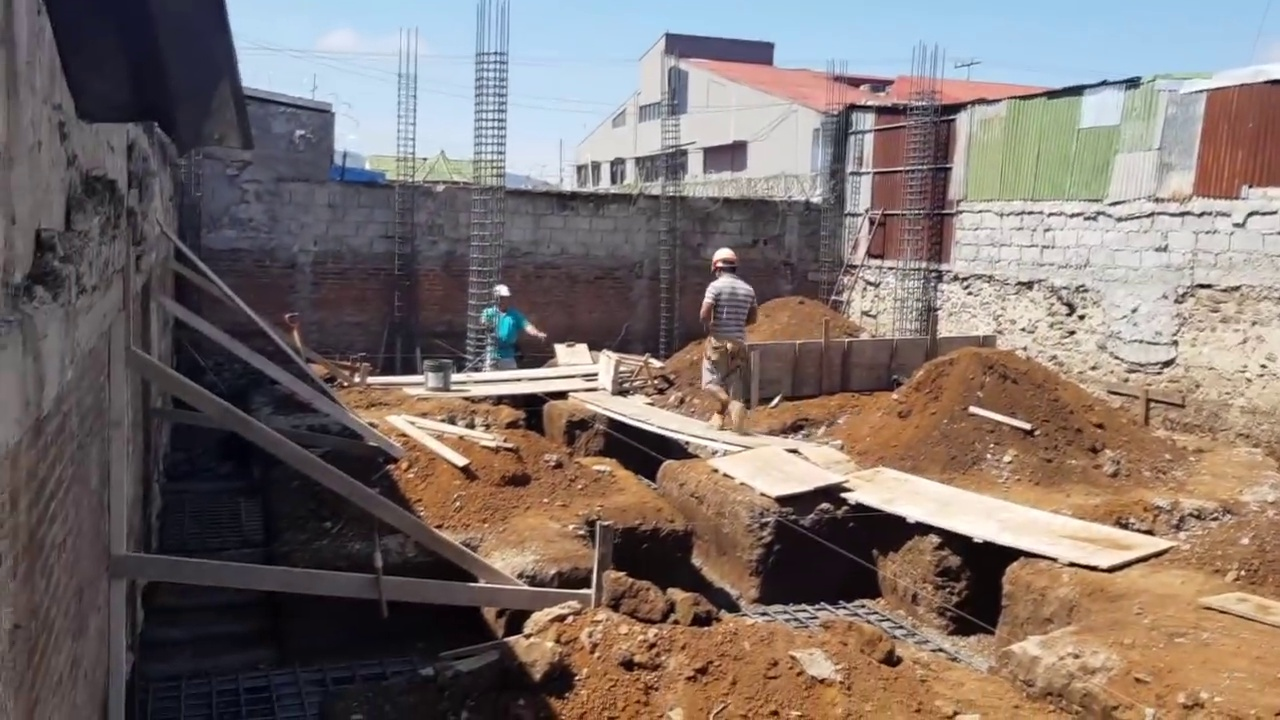helmet: (710, 247, 739, 272), (492, 285, 512, 297)
helmet-on: (710, 246, 738, 280), (492, 284, 514, 312)
person: (699, 246, 758, 432), (481, 284, 547, 373)
